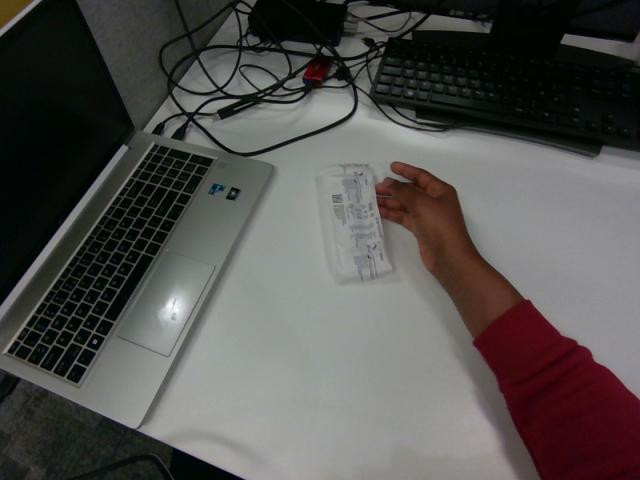syringe: (317, 164, 391, 283)
